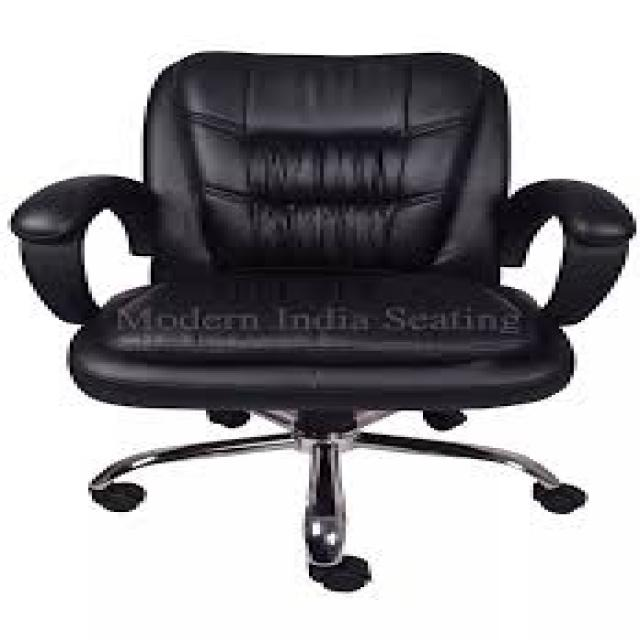chair: (0, 25, 640, 598)
